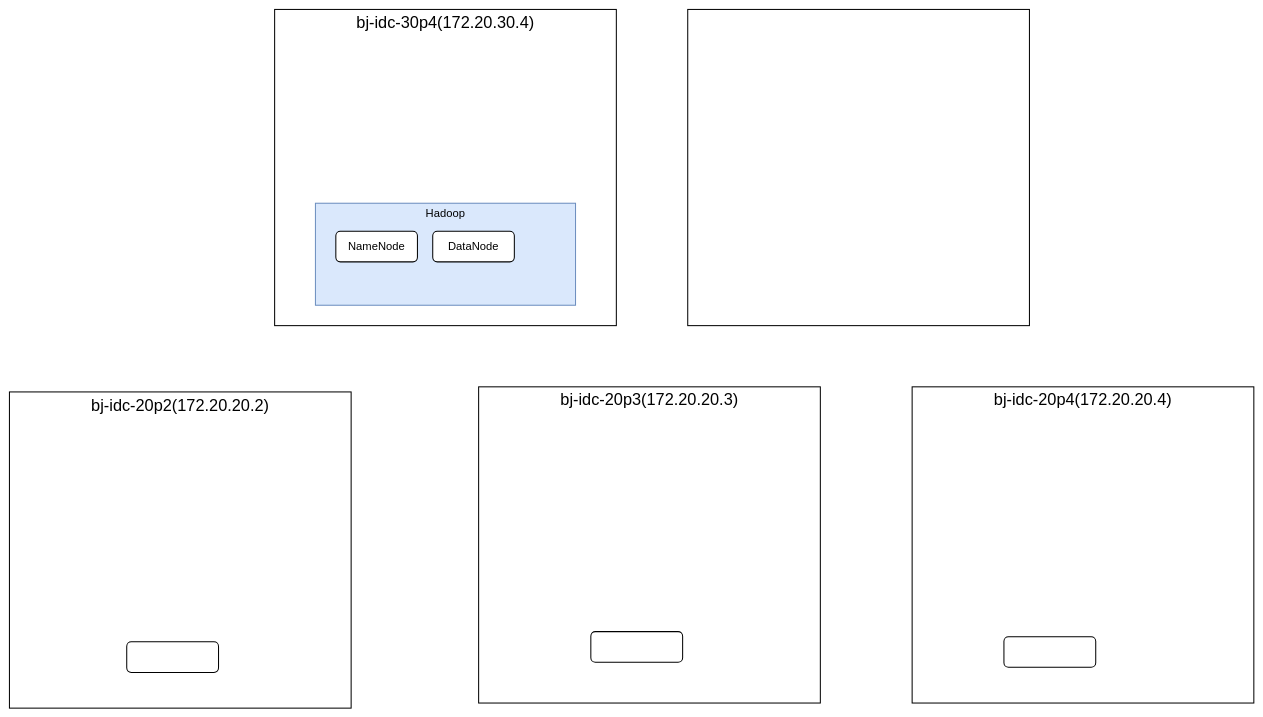
This 1263x717 diagram has some shape labels left out. The centre of each missing label's shape, as x and y in pixels:
"bj-idc-20p1(172.20.20.1)" goes at (x=858, y=167).
"zookeeper(1)" goes at (x=172, y=657).
"zookeeper(2)" goes at (x=636, y=646).
"zookeeper(3)" goes at (x=1049, y=652).
